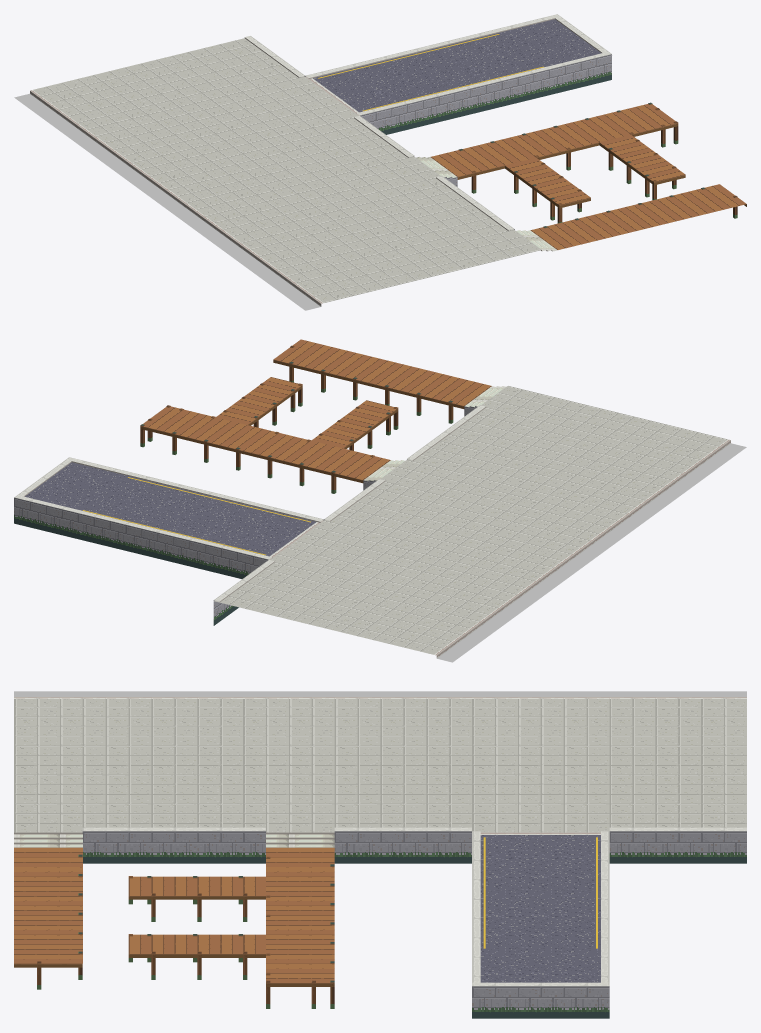
Rendered from port.obj.
3 renders of one model, top to bottom at view 1: azimuth 30°, elevation 25°; view 2: azimuth 150°, elevation 25°; view 3: azimuth 270°, elevation 25°, orthographic. The views are drawn at different scales.
Bounding box in the file's own units: 496 × 25 × 512.
